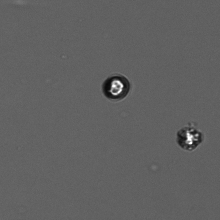Living Cell: (101, 73, 132, 101), (175, 126, 204, 151)
